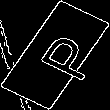P_NW: (17, 27, 93, 83)
